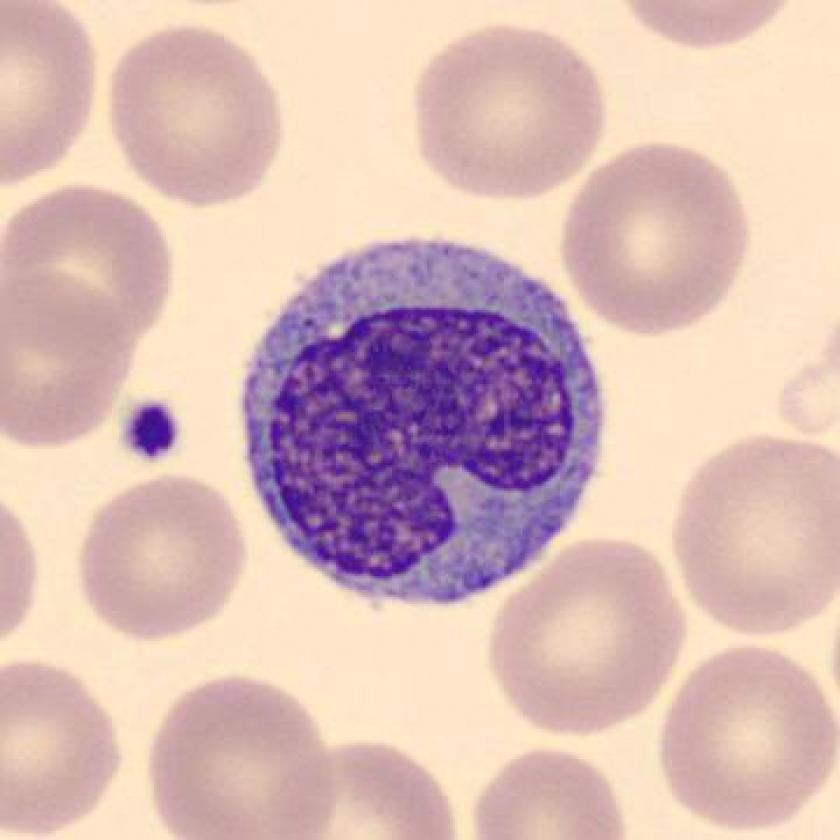monocyte: (220, 230, 636, 624)
